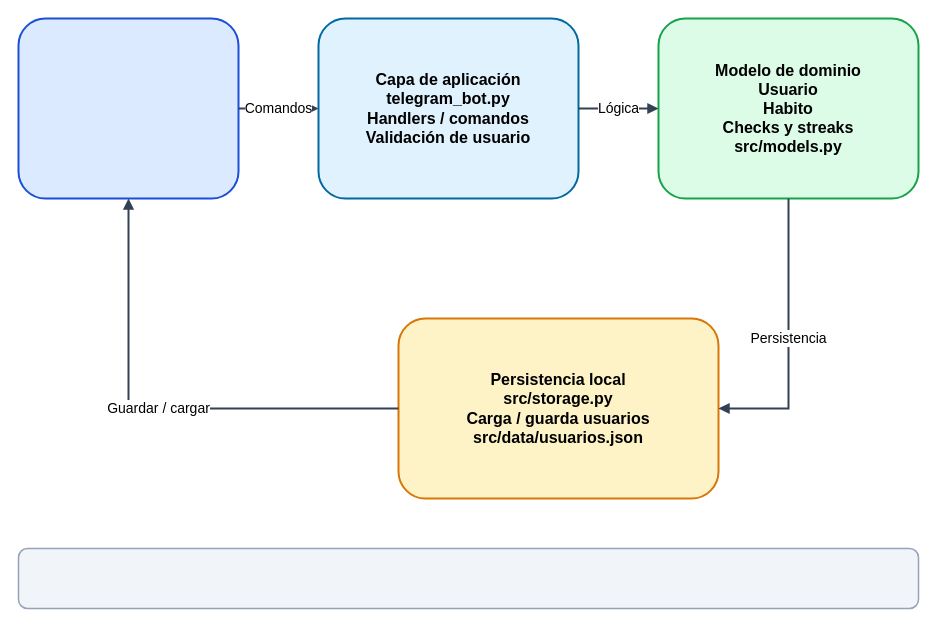
Some shapes in this 936 by 626 pixel diagram are drawn without their labels. Each missing label, with the centre of its shape:
"Flujo principal: Usuario → Interfaz → Modelo → Persistencia → JSON local" goes at point (468, 578).
"Usuario / Interfaz Telegram o CLI" goes at point (128, 108).
